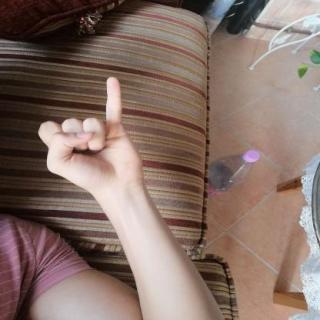MEEM: (28, 70, 149, 204)
